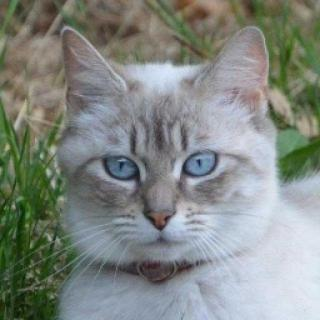cat: (56, 23, 281, 277)
nose: (142, 193, 178, 232)
